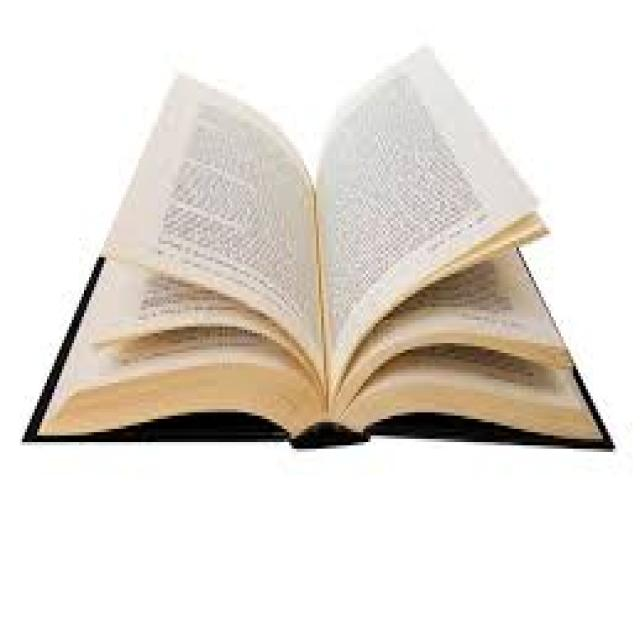paper: (17, 40, 613, 446), (314, 40, 539, 413), (94, 69, 324, 429)
